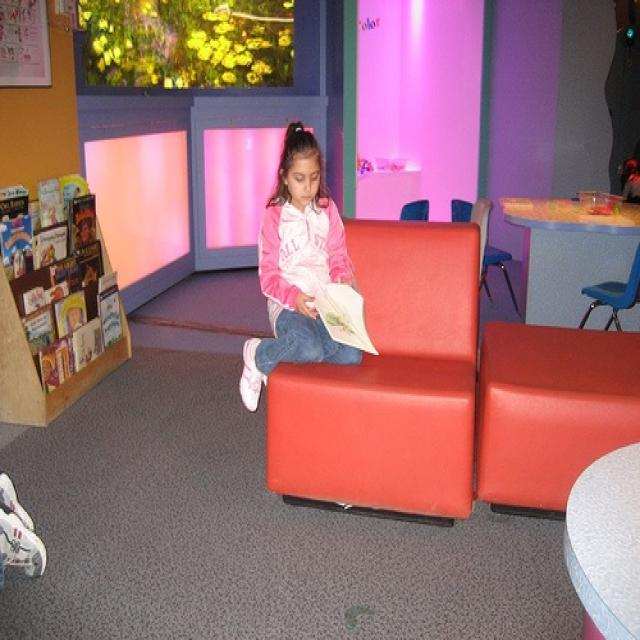chair: (261, 215, 479, 529), (448, 198, 521, 317), (578, 222, 638, 334)
